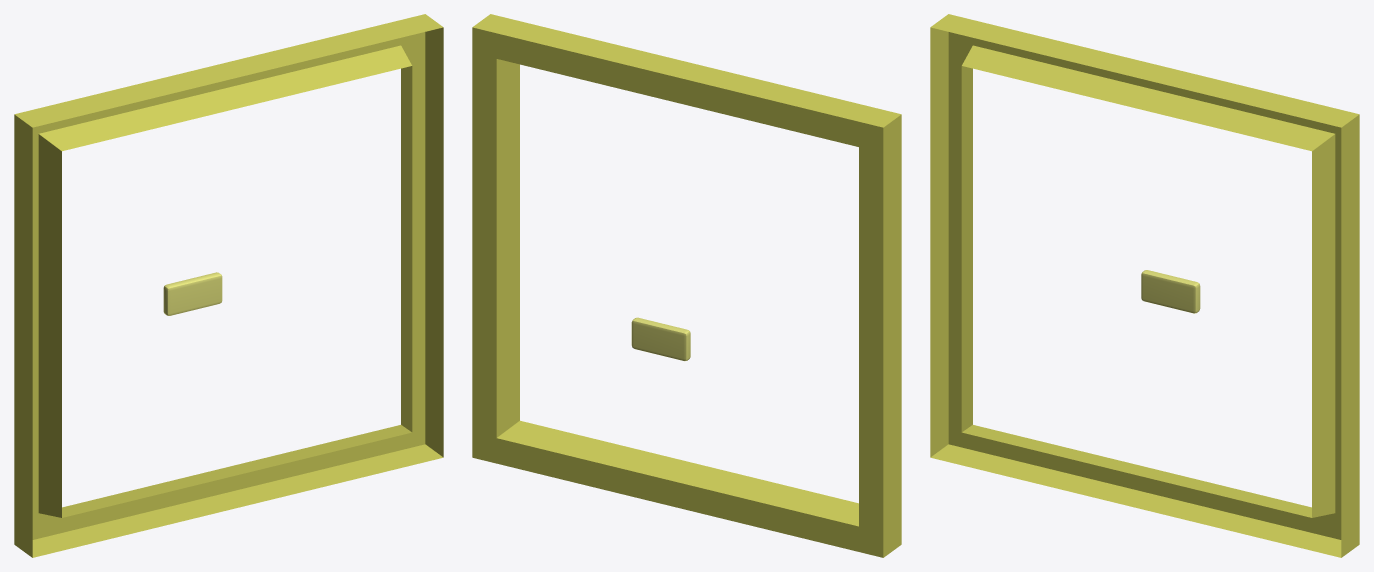
File: FrameAndButton.fbx
3 views of the same model, side by side, from view 1: azimuth 30°, elevation 25°; view 2: azimuth 150°, elevation 25°; view 3: azimuth 330°, elevation 25° (orthographic).
Visible parts, largest first — view 1: pCube3, pCube4; view 2: pCube3, pCube4; view 3: pCube3, pCube4.
Part boxes in pixels (bbox=[...]): pCube3: bbox=[14, 14, 443, 557]; pCube4: bbox=[163, 272, 222, 315]; pCube3: bbox=[472, 14, 901, 557]; pCube4: bbox=[631, 317, 690, 361]; pCube3: bbox=[930, 14, 1359, 557]; pCube4: bbox=[1141, 270, 1200, 313].
Bounding box in the file's own units: 7.29 × 7.29 × 1.31.
